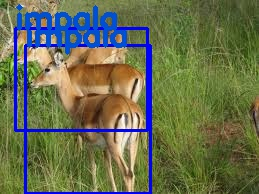impala: (25, 44, 149, 193), (14, 27, 146, 129)
